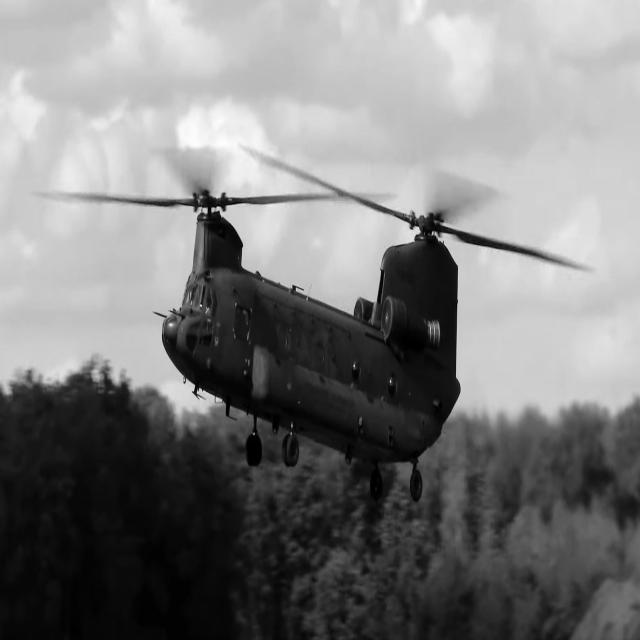Helicopter: (49, 157, 582, 500)
